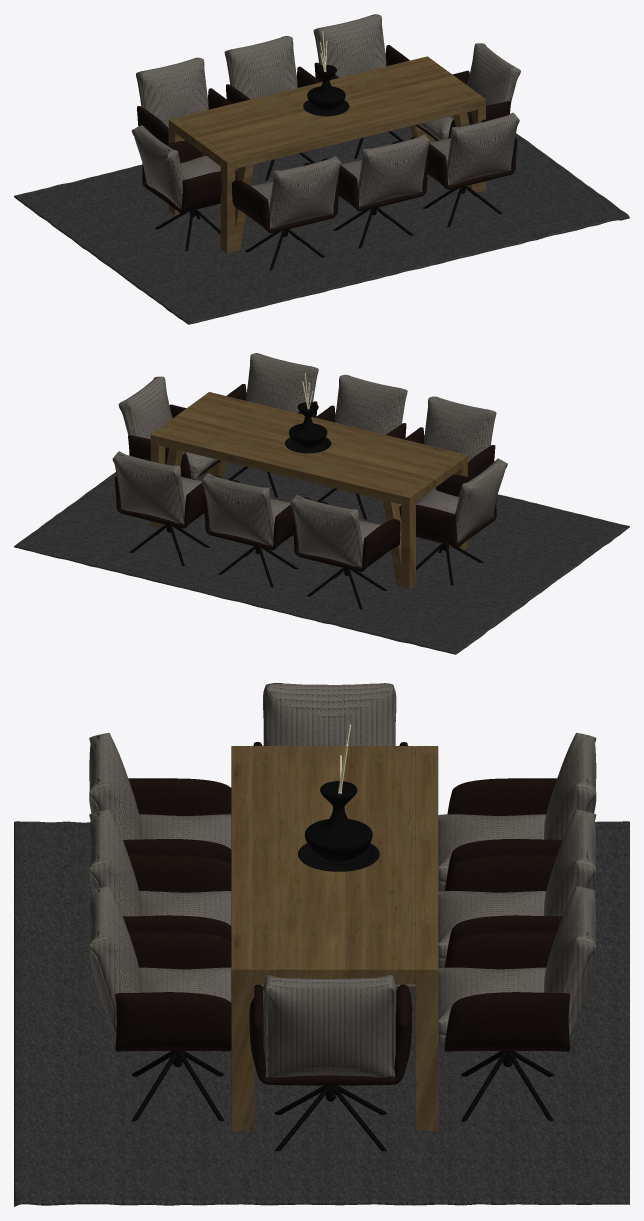
The model's file is Conf_desk_2.glb.
3 renders of one model, top to bottom at view 1: azimuth 30°, elevation 25°; view 2: azimuth 150°, elevation 25°; view 3: azimuth 270°, elevation 25°, orthographic. The views are drawn at different scales.
Visible parts, largest first — view 1: Box028, Object002_Material #2_0, Object026_Material #3_0, Object011_Material #4_0, Capsule001, Line006_Material #17_0; view 2: Box028, Object002_Material #2_0, Object026_Material #3_0, Object011_Material #4_0, Capsule001, Line006_Material #17_0; view 3: Box028, Object002_Material #2_0, Object026_Material #3_0, Object011_Material #4_0, Capsule001, Line006_Material #17_0, Line003_Material #5_0.
Boxes of the visible parts, box(x1,y1,x2,y2) form: Box028: box(14, 126, 629, 324); Object002_Material #2_0: box(131, 14, 520, 228); Object026_Material #3_0: box(168, 56, 485, 253); Object011_Material #4_0: box(137, 45, 517, 232); Capsule001: box(155, 131, 502, 270); Line006_Material #17_0: box(307, 65, 345, 110); Box028: box(14, 462, 629, 654); Object002_Material #2_0: box(112, 353, 507, 567); Object026_Material #3_0: box(150, 392, 467, 589); Object011_Material #4_0: box(114, 384, 496, 571); Capsule001: box(129, 466, 483, 609); Line006_Material #17_0: box(289, 402, 327, 447); Box028: box(14, 821, 629, 1206); Object002_Material #2_0: box(89, 683, 596, 1077); Object026_Material #3_0: box(231, 746, 438, 1131); Object011_Material #4_0: box(115, 742, 570, 1085); Capsule001: box(131, 1051, 553, 1151); Line006_Material #17_0: box(305, 781, 372, 861); Line003_Material #5_0: box(298, 843, 379, 871).
Bounding box in the file's own units: 392 × 144 × 268.
Materials: 8 (4 with a texture image).
